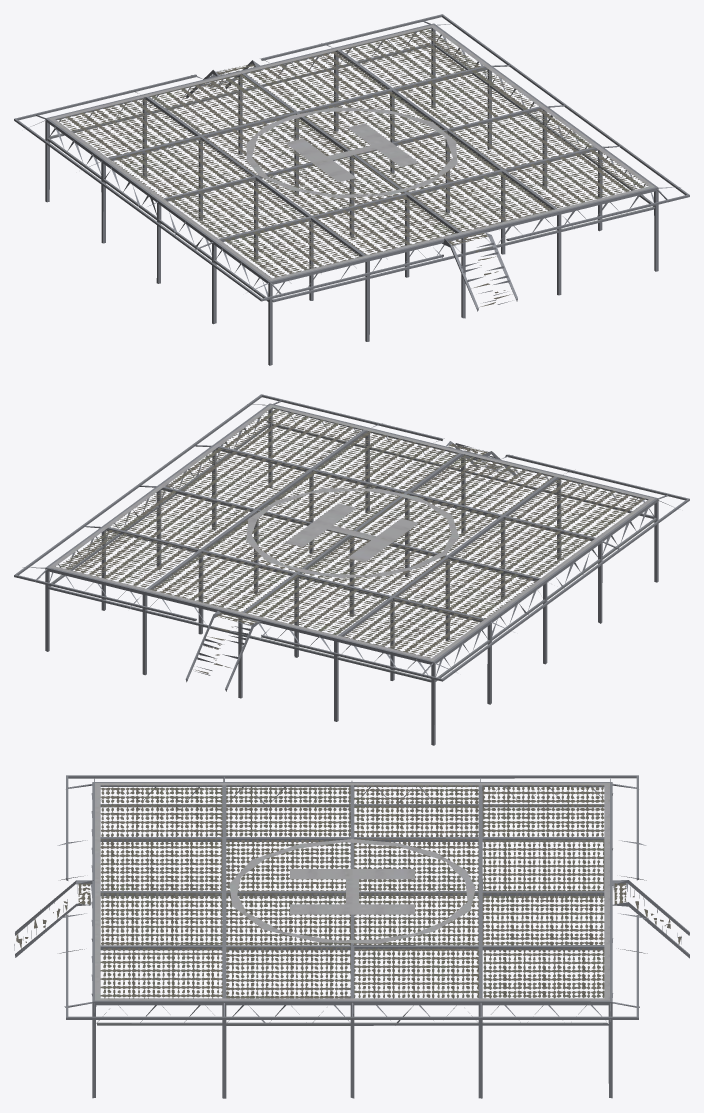
File: helipad.glb
The picture shows the model from 3 angles, top to bottom: view 1: azimuth 30°, elevation 25°; view 2: azimuth 150°, elevation 25°; view 3: azimuth 270°, elevation 25°; orthographic projection. The views are drawn at different scales.
Parts seen in each view (by area): view 1: SM_Helipad_20m; view 2: SM_Helipad_20m; view 3: SM_Helipad_20m.
Part boxes in pixels (x1,y1,x2,y2): SM_Helipad_20m: [14, 14, 689, 365]; SM_Helipad_20m: [14, 394, 689, 745]; SM_Helipad_20m: [14, 775, 689, 1098].
Size of the model in its own units: 28.29 by 5.23 by 32.36.
4 materials, 4 textured.
